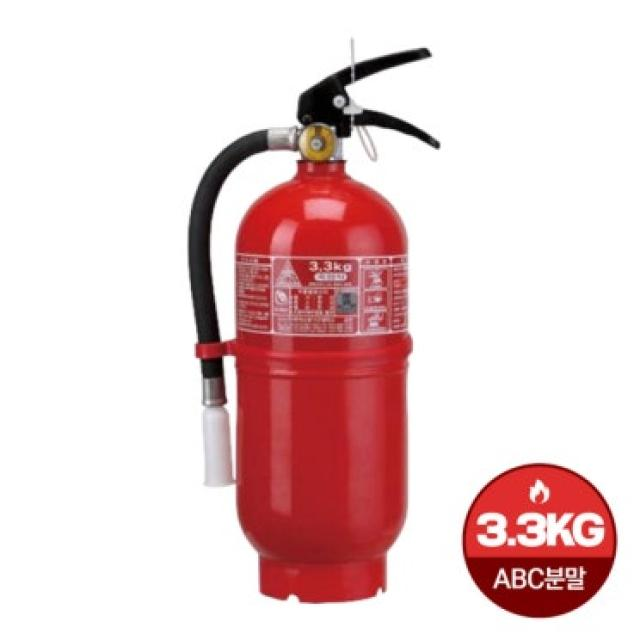pressure gauge: (298, 124, 335, 162)
